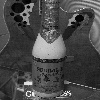beer: (31, 1, 66, 95)
